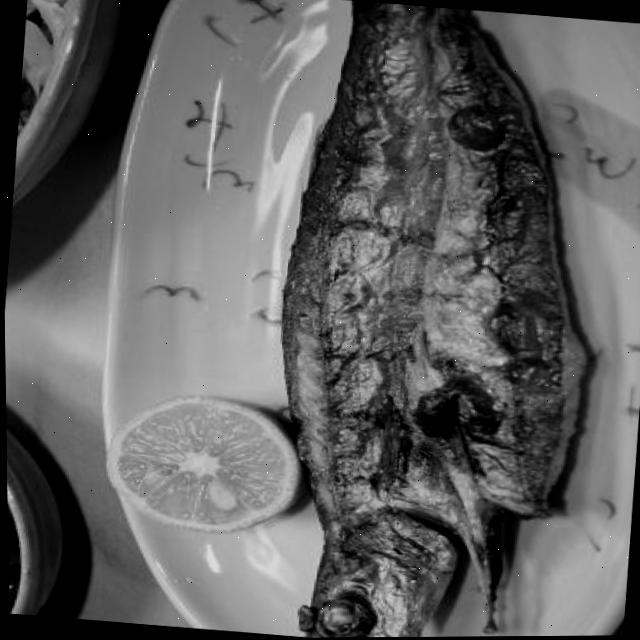熟制海鲜: (248, 0, 614, 639)
